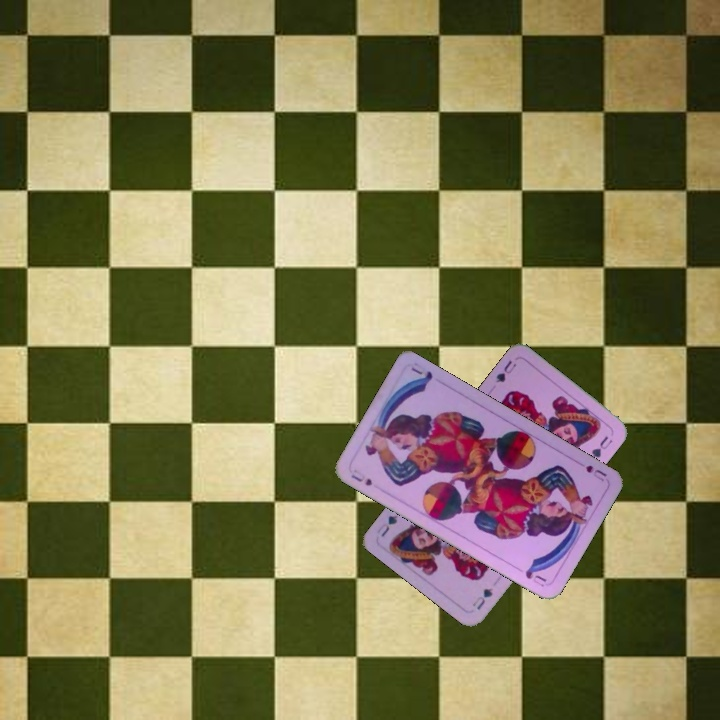GU: (468, 583, 496, 612), (492, 356, 519, 385)
SU: (572, 457, 609, 484), (347, 465, 375, 488)
